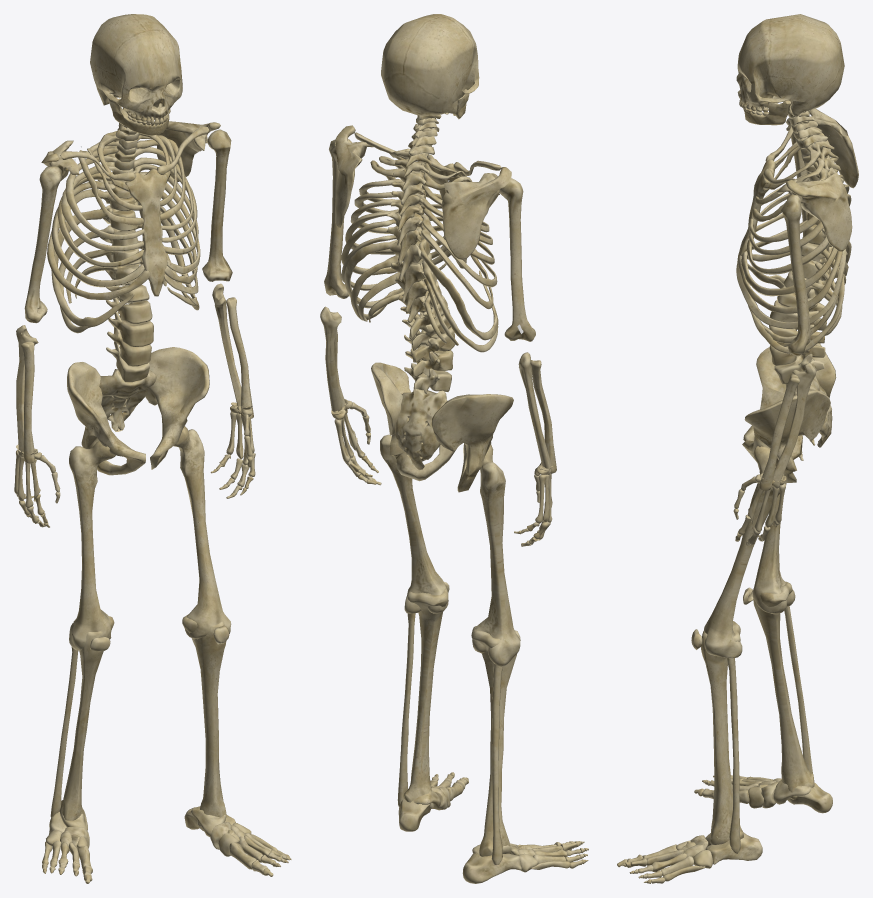
File: Skeleton_Pose.gltf
The picture shows the model from 3 angles, left to right: view 1: azimuth 30°, elevation 25°; view 2: azimuth 150°, elevation 25°; view 3: azimuth 270°, elevation 25°; orthographic projection. The views are drawn at different scales.
Visible parts, largest first — view 1: polySurface238, polySurface236, polySurface237; view 2: polySurface238; view 3: polySurface238, polySurface237.
Part boxes in pixels (x1,y1,x2,y2): polySurface238: (14, 14, 291, 883); polySurface236: (61, 166, 143, 251); polySurface237: (133, 157, 197, 242); polySurface238: (320, 14, 588, 883); polySurface238: (617, 14, 858, 883); polySurface237: (749, 221, 823, 255).
Bounding box in the file's own units: 0.2169 × 0.7456 × 0.1979.
2 materials, 1 textured.
